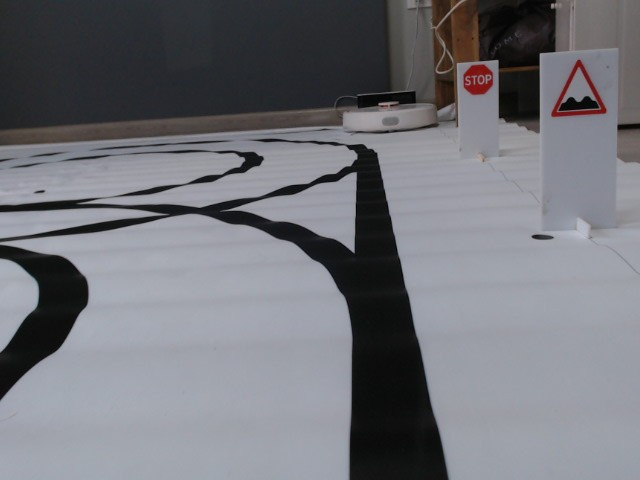Nerov: (549, 58, 609, 118)
